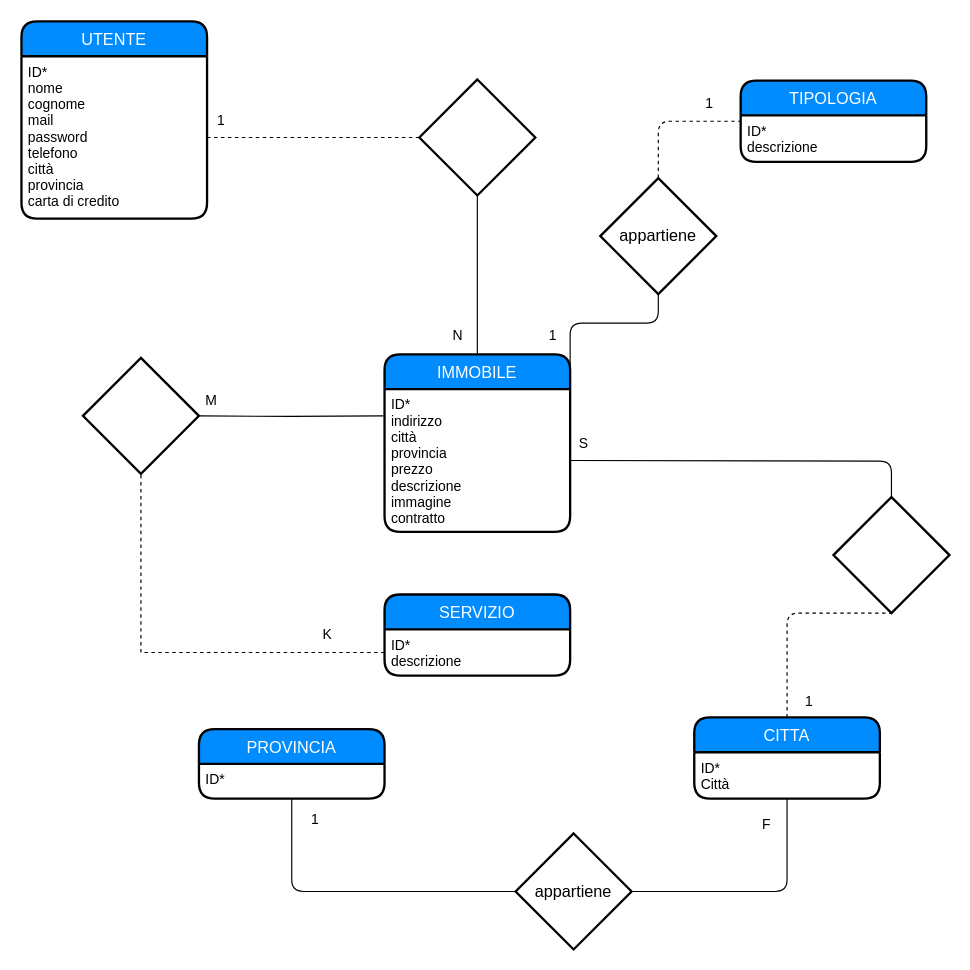
Some shapes in this 970 by 970 pixel diagram are drawn without their labels. Here are the shapes that lost their labels. From the top down, the centre of each, then its label:
At point (477, 137): "pubblica annuncio per".
At point (140, 415): "con".
At point (891, 554): "è localizzato".
